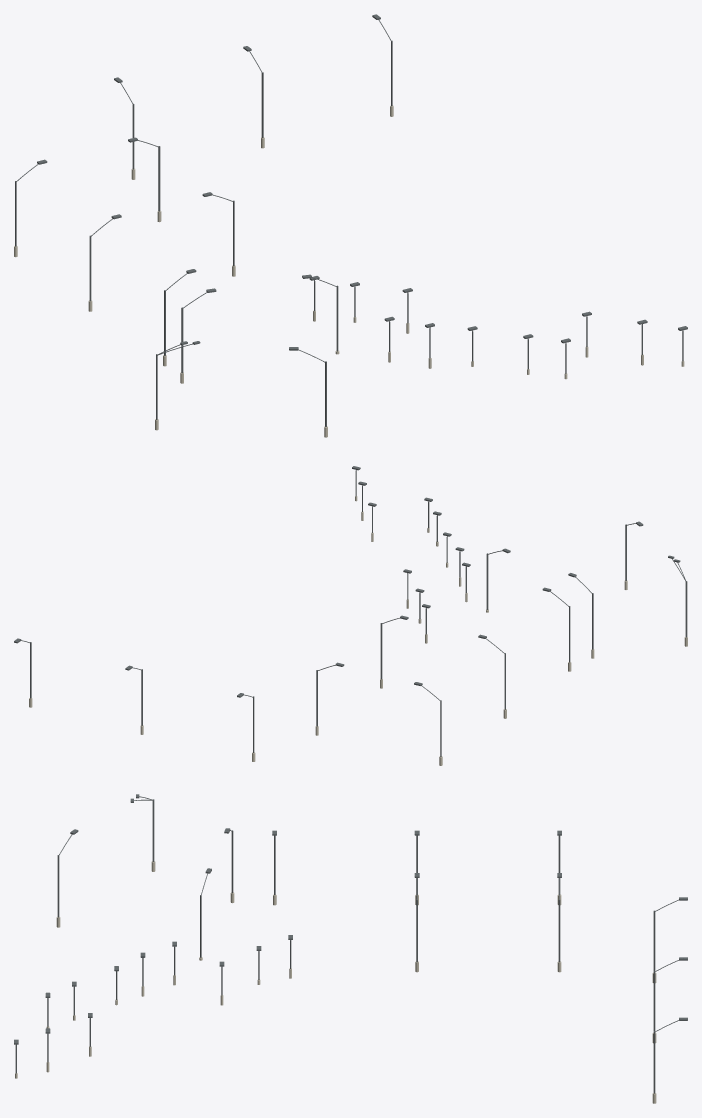
3 renders of one model, top to bottom at view 1: azimuth 30°, elevation 25°; view 2: azimuth 150°, elevation 25°; view 3: azimuth 270°, elevation 25°, orthographic. The views are drawn at different scales.
Visible parts, largest first — view 1: buildings_s_-9_1_Dark_Metal, buildings_s_-9_1_Warm_Limestone; view 2: buildings_s_-9_1_Dark_Metal, buildings_s_-9_1_Warm_Limestone; view 3: buildings_s_-9_1_Dark_Metal, buildings_s_-9_1_Warm_Limestone.
Boxes of the visible parts, box(x1,y1,x2,y2) form: buildings_s_-9_1_Dark_Metal: box(15, 14, 687, 426); buildings_s_-9_1_Warm_Limestone: box(14, 105, 684, 437); buildings_s_-9_1_Dark_Metal: box(14, 466, 687, 756); buildings_s_-9_1_Warm_Limestone: box(29, 496, 687, 765); buildings_s_-9_1_Dark_Metal: box(14, 794, 687, 1093); buildings_s_-9_1_Warm_Limestone: box(15, 861, 656, 1103).
Size of the model in its own units: 105 by 17.75 by 128.
